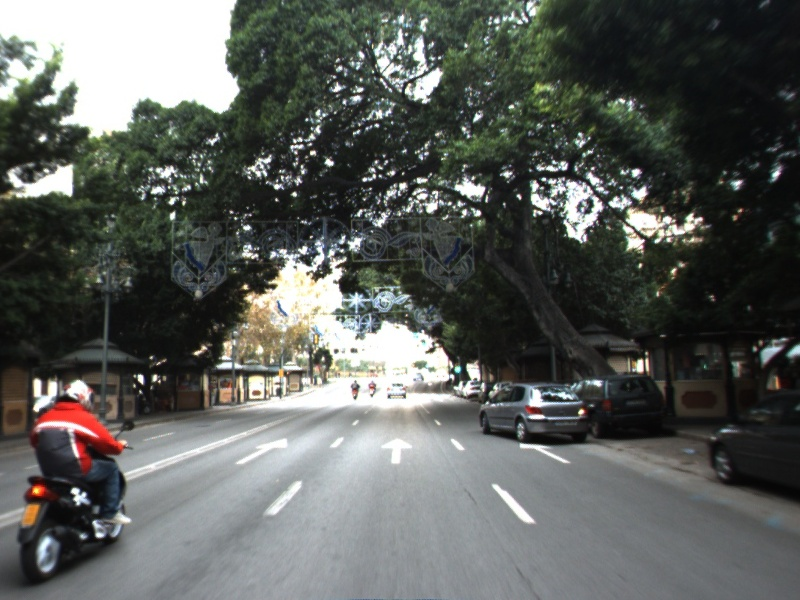STRAIGHT: (233, 436, 290, 466), (517, 440, 573, 465), (379, 436, 415, 465)
